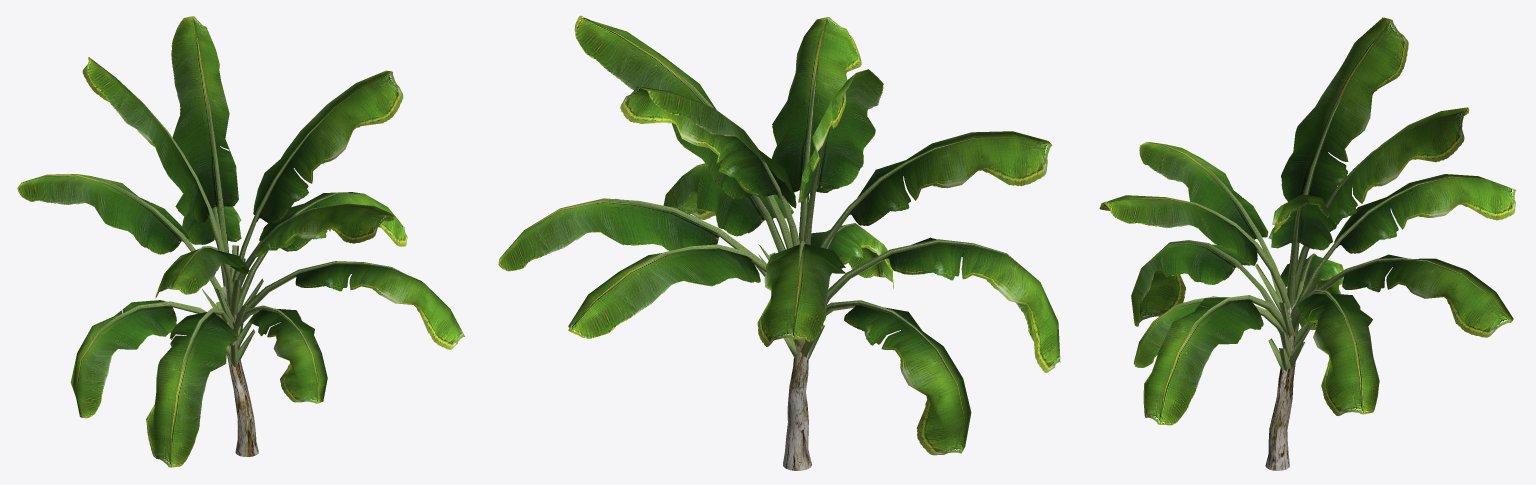
The model's file is Banana.fbx.
The picture shows the model from 3 angles, left to right: view 1: azimuth 30°, elevation 25°; view 2: azimuth 150°, elevation 25°; view 3: azimuth 270°, elevation 25°; orthographic projection. The views are drawn at different scales.
Parts seen in each view (by area): view 1: Tree_1, Tree_2, Tree_0; view 2: Tree_1, Tree_2, Tree_0; view 3: Tree_1, Tree_2, Tree_0.
Boxes of the visible parts, x1,y1,x2,y2 form: Tree_1: (17,16,464,467); Tree_2: (81,75,422,392); Tree_0: (223,286,258,456); Tree_1: (498,15,1060,455); Tree_2: (562,59,1038,382); Tree_0: (783,339,811,470); Tree_1: (1099,17,1516,425); Tree_2: (1153,83,1456,371); Tree_0: (1265,288,1297,470).
Bounding box in the file's own units: 44.6 × 46.2 × 45.72.
3 materials, 3 textured.
